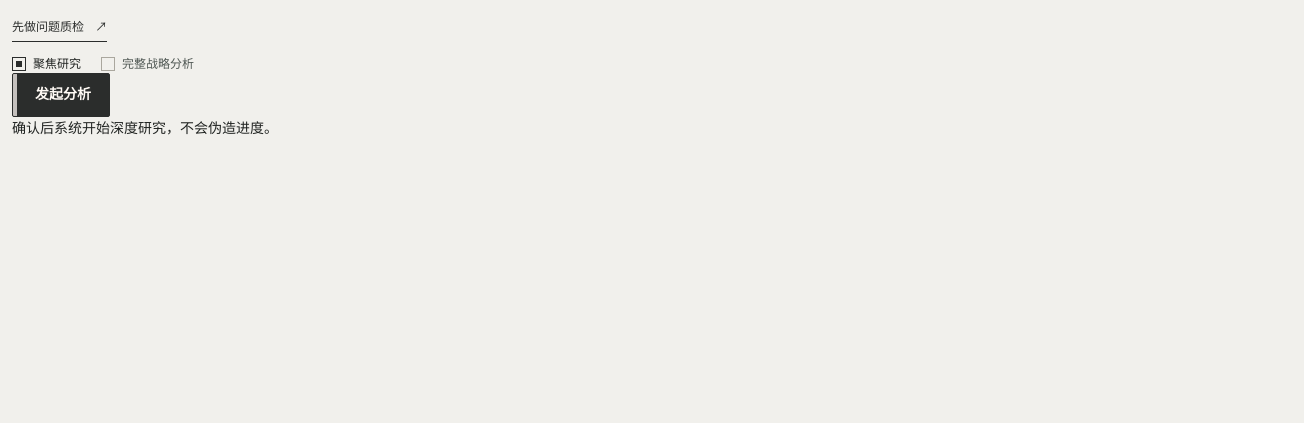
Scenario: AnalysisLaunchPanel › launches the real loop and lands on the backend terminal verdict
The image size is (1304, 423).
Click the button "发起分析": (61, 95) top-left (12, 73), bottom-right (110, 117)
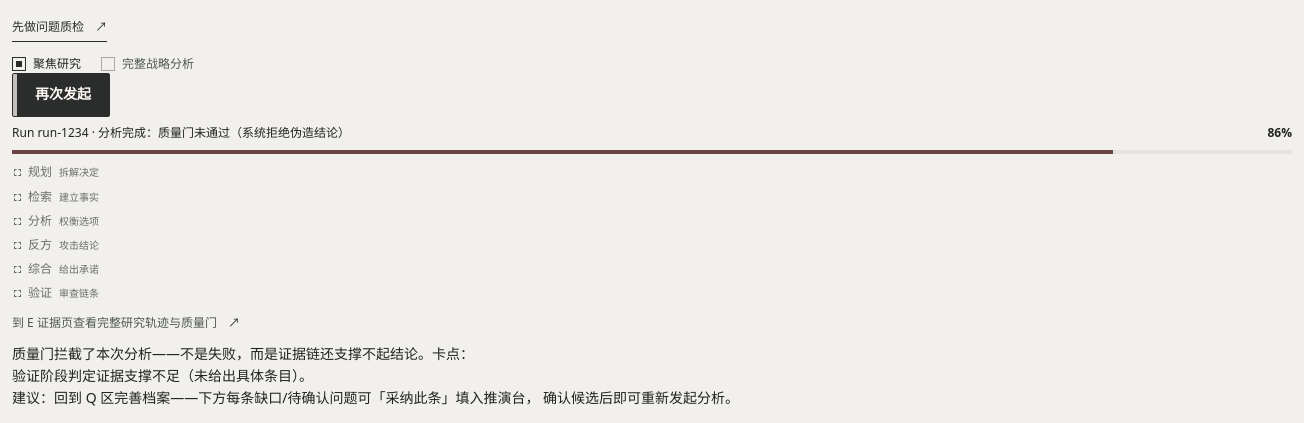
Result: the message shows "质量门未通过" at top-left (98, 124), bottom-right (350, 141)
Result: the element that starts with "Run run-1234 ·" is shown at top-left (12, 123), bottom-right (1292, 342)
